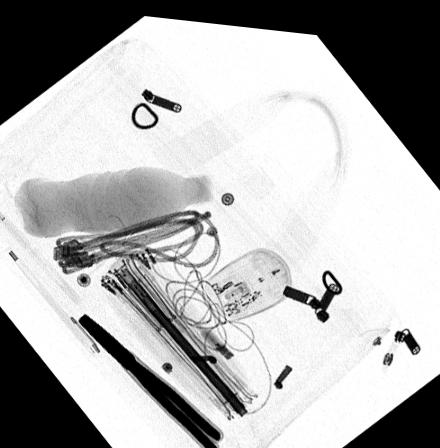Pliers: (76, 309, 222, 448)
